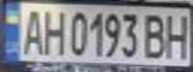0: (66, 8, 87, 56)
1: (84, 9, 106, 57)
3: (121, 10, 142, 58)
9: (103, 9, 124, 57)
A: (18, 6, 45, 55)
B: (139, 10, 172, 60)
H: (163, 10, 193, 61), (39, 7, 69, 56)
